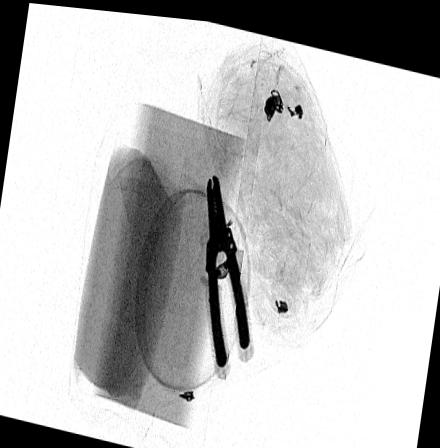Pliers: (204, 167, 250, 370)
